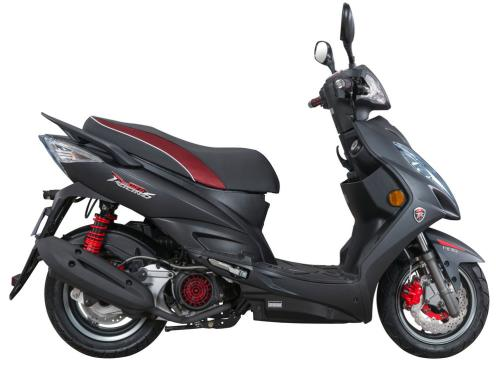motor: (37, 39, 485, 358)
